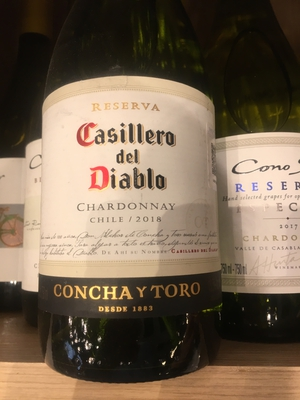casillero del diablo chardonnay: (44, 28, 224, 377)
